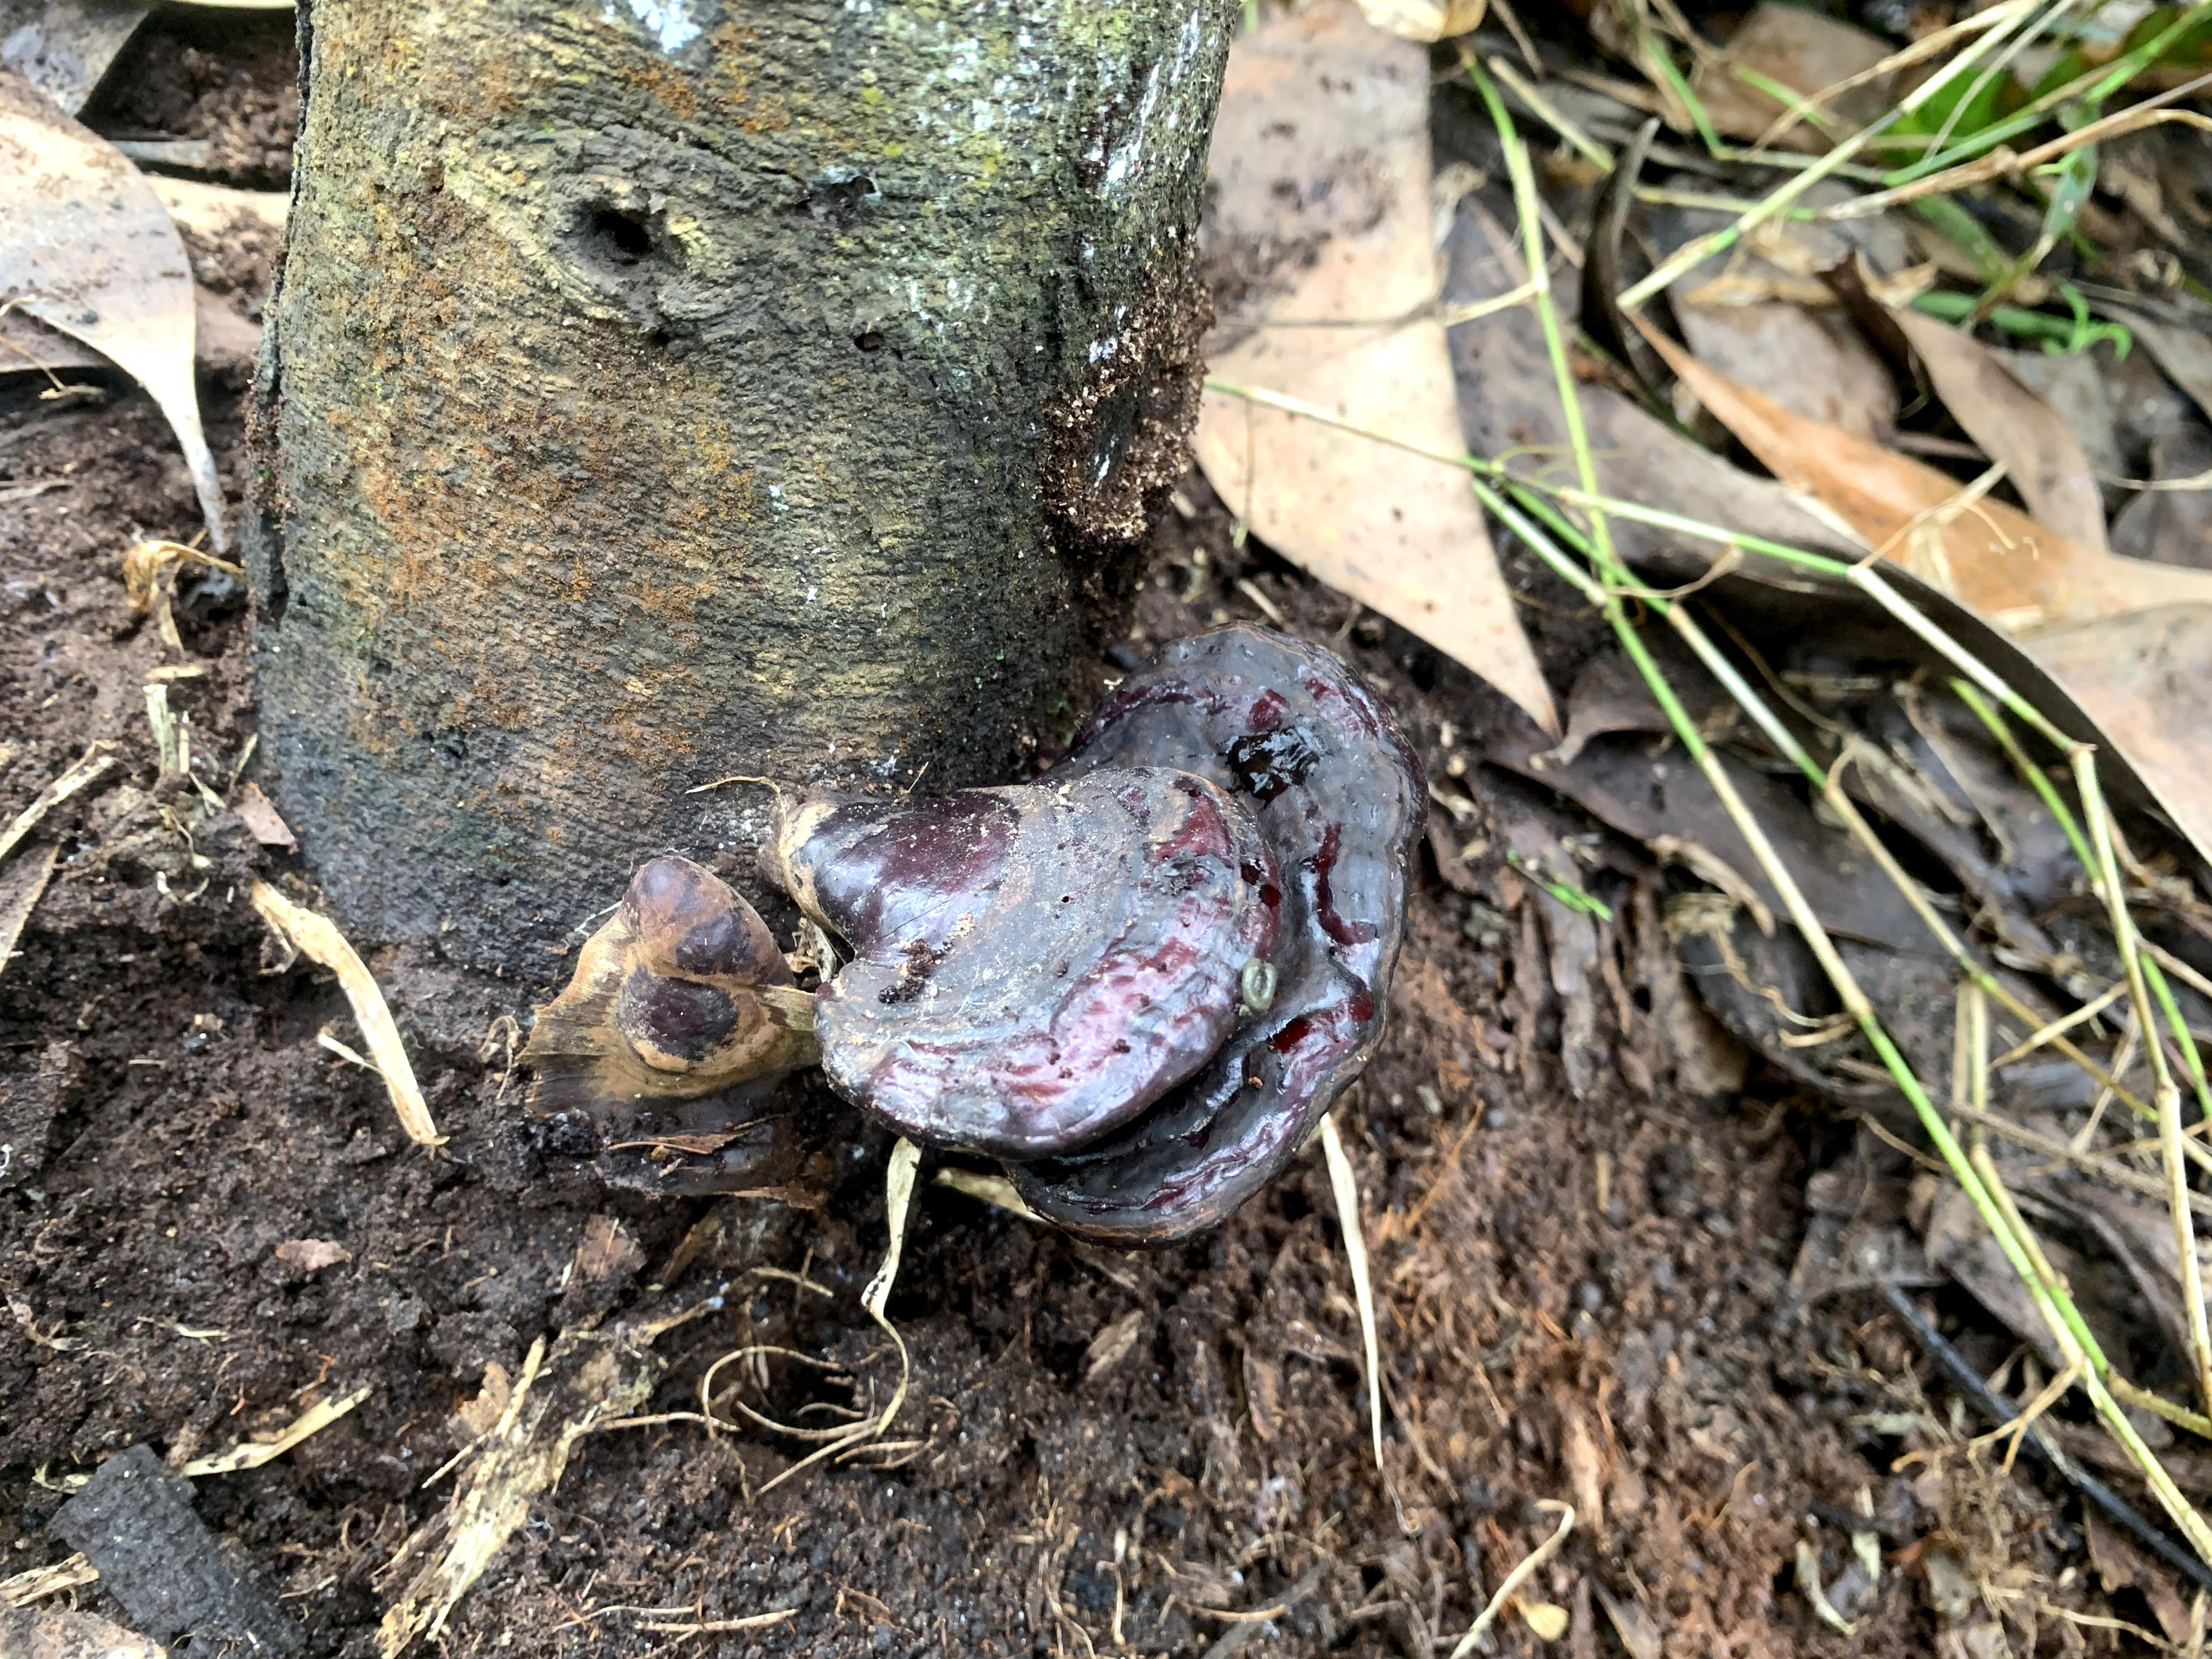Ganoderma - Fruit Body: (806, 640, 1432, 1243)
